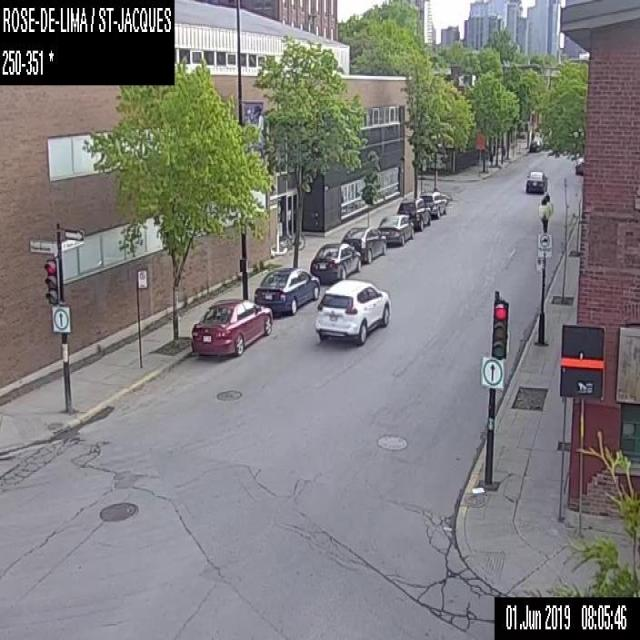vehicle: (190, 297, 272, 356), (314, 281, 392, 342), (253, 267, 320, 314), (308, 241, 361, 280), (339, 226, 386, 258), (376, 213, 414, 244), (398, 196, 432, 228), (418, 188, 448, 217), (524, 168, 547, 193), (574, 157, 584, 174), (530, 139, 540, 152)
